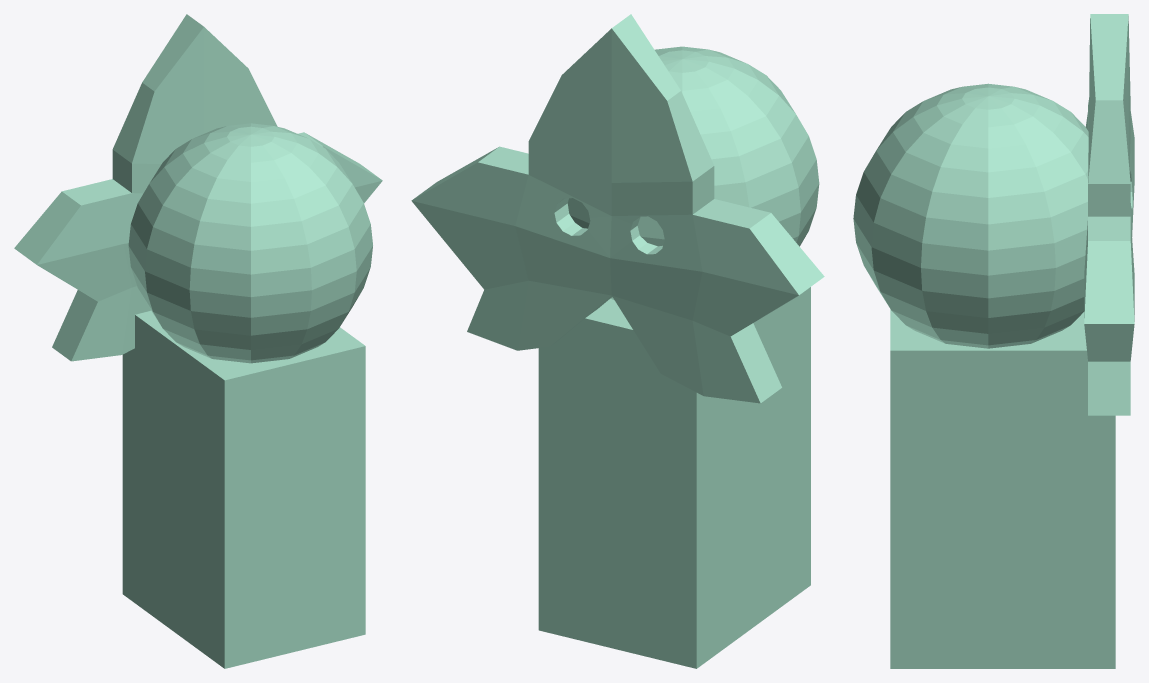
File: iVY.glb
3 views of the same model, side by side, from view 1: azimuth 30°, elevation 25°; view 2: azimuth 150°, elevation 25°; view 3: azimuth 270°, elevation 25° (orthographic). The views are drawn at different scales.
Visible parts, largest first — view 1: Cube.001; view 2: Cube.001; view 3: Cube.001.
Boxes of the visible parts, x1,y1,x2,y2 form: Cube.001: [14, 14, 382, 668]; Cube.001: [411, 14, 824, 668]; Cube.001: [853, 14, 1134, 668].
Bounding box in the file's own units: 0.2761 × 0.4261 × 0.1761.
